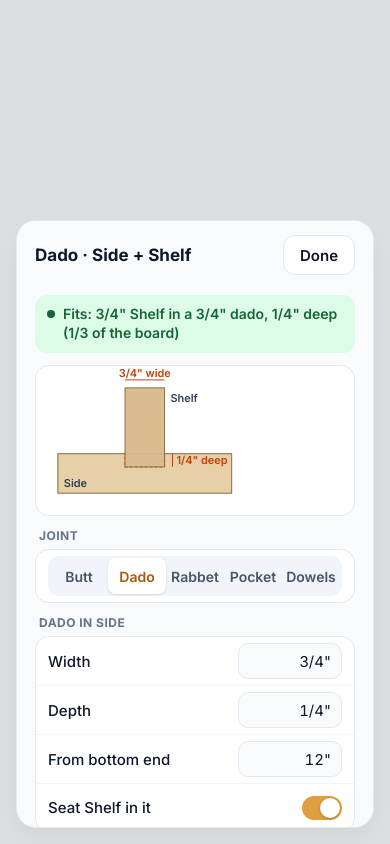
Test: Join sheet + joint editor › depth in fractions re-seats the shelf; too deep warns; the diagram follows as you type
Step 1. Replace the text in the field with test id "joint-depth" with "5/16" → (290, 710), box [238,692,342,728]
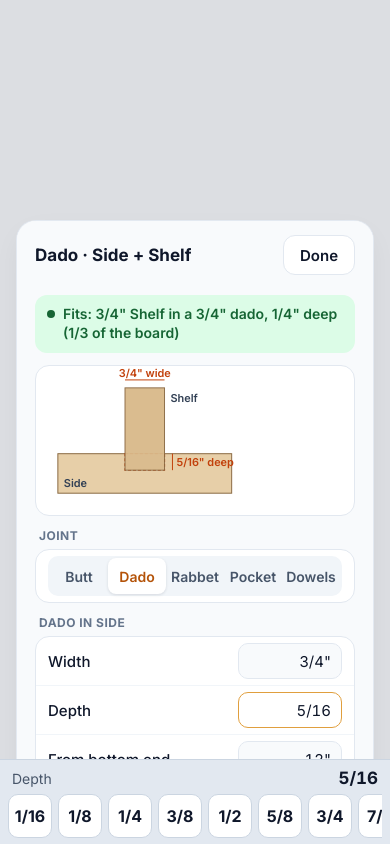
Step 2. Leave the field with test id "joint-depth", box [238,692,342,728]
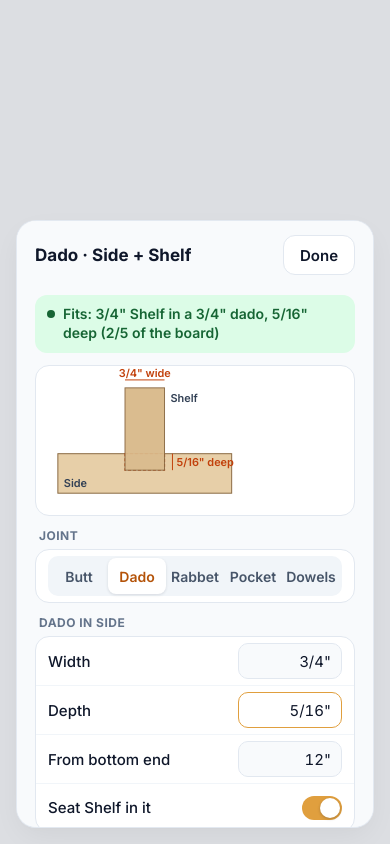
Step 3. Replace the text in the field with test id "joint-depth" with "1/2" → (290, 710), box [238,692,342,728]
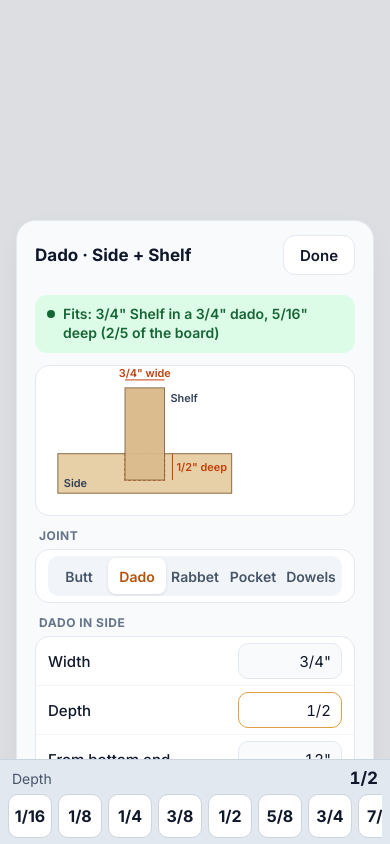
Step 4. Leave the field with test id "joint-depth", box [238,692,342,728]
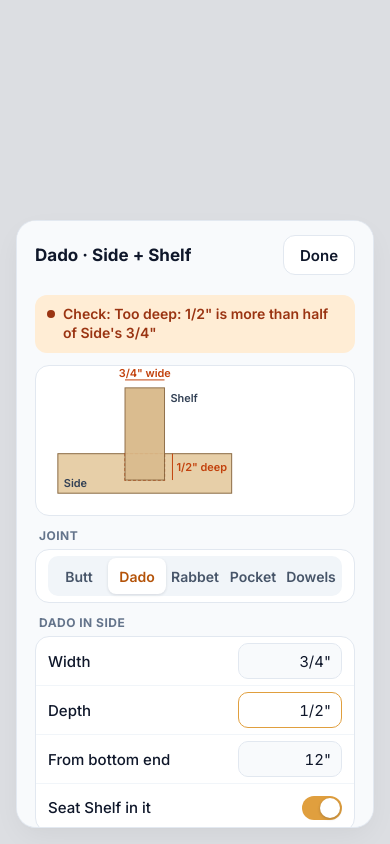
Check: the message with test id "joint-fit" reads "Check: Too deep: 1/2\" is more than half of Side's 3/4\"", box [63,305,328,341]
